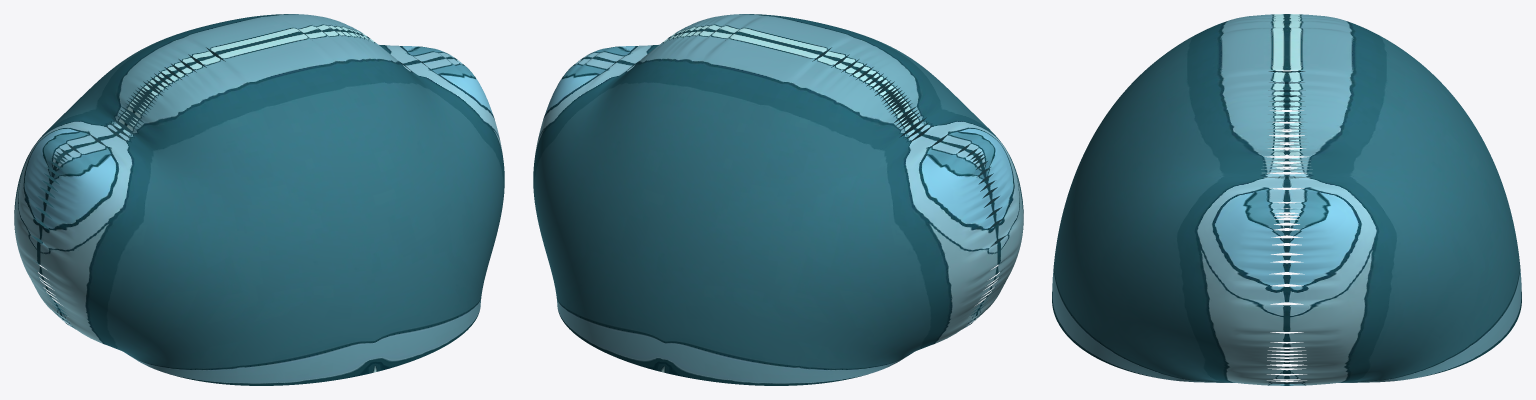
The model's file is deck_console.glb.
3 views of the same model, side by side, from view 1: azimuth 30°, elevation 25°; view 2: azimuth 150°, elevation 25°; view 3: azimuth 270°, elevation 25° (orthographic). The views are drawn at different scales.
Parts seen in each view (by area): view 1: deck_console; view 2: deck_console; view 3: deck_console.
Boxes of the visible parts, x1,y1,x2,y2 form: deck_console: (14, 14, 504, 385); deck_console: (533, 14, 1023, 385); deck_console: (1052, 14, 1521, 385).
Size of the model in its own units: 0.989 by 0.5262 by 0.8921.
Materials: 1 (1 with a texture image).
